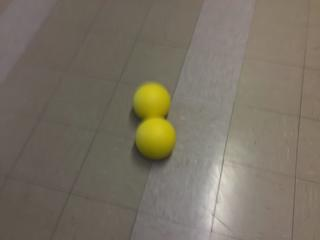power_cell: (133, 121, 178, 161), (133, 80, 174, 121)
